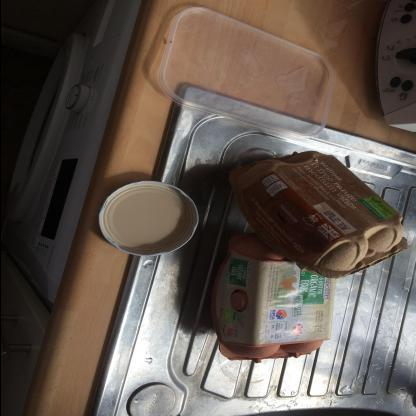karton: (228, 151, 410, 282), (212, 234, 337, 364)
metal: (97, 181, 199, 260)
plastik: (156, 7, 336, 141)
